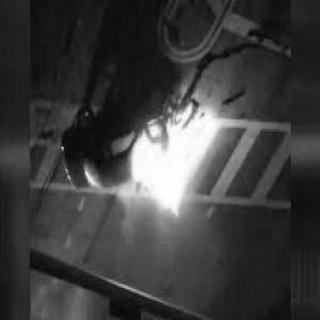Fire: (93, 89, 235, 247)
